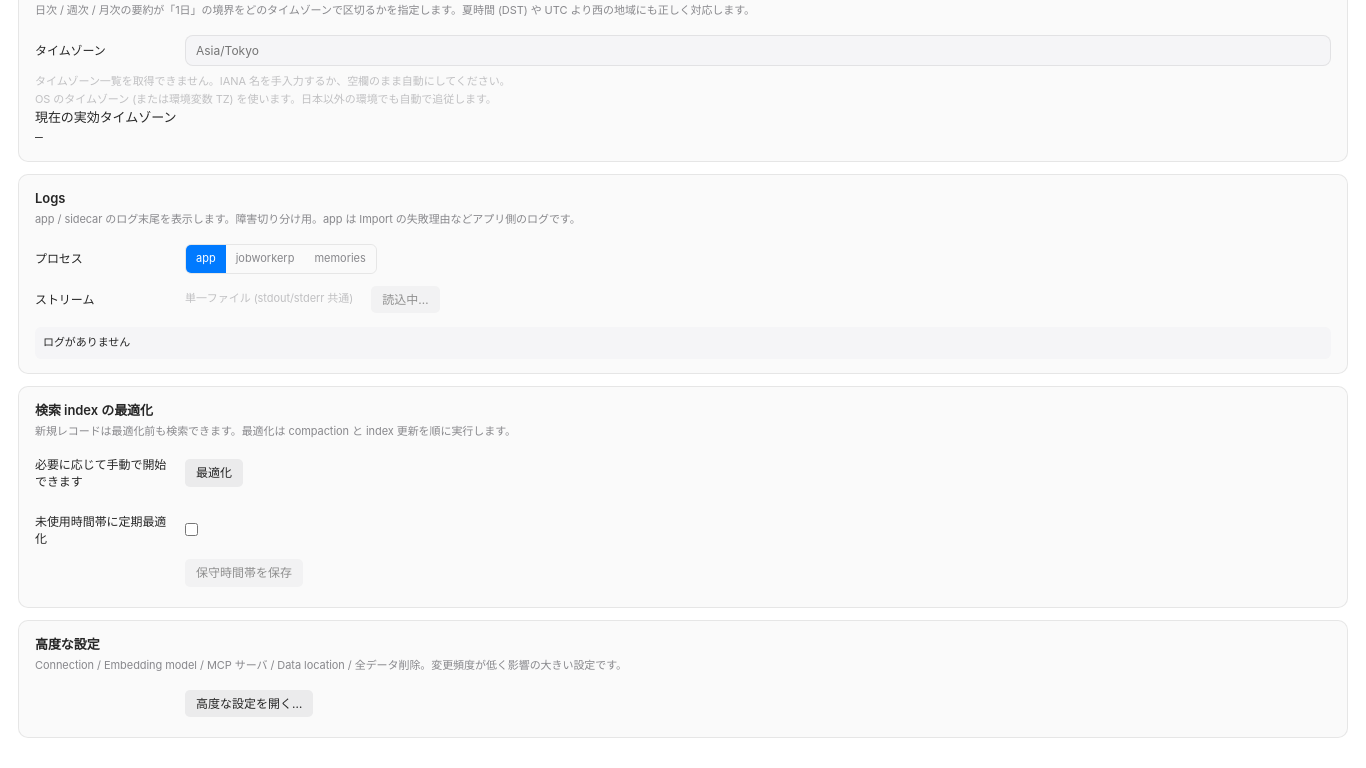
Settings view switching › switches to the advanced view and back
(page scrolled)
Step 1. Click the button "高度な設定を開く…" → (249, 703), box left=185, top=690, right=313, bottom=717
(page scrolled)
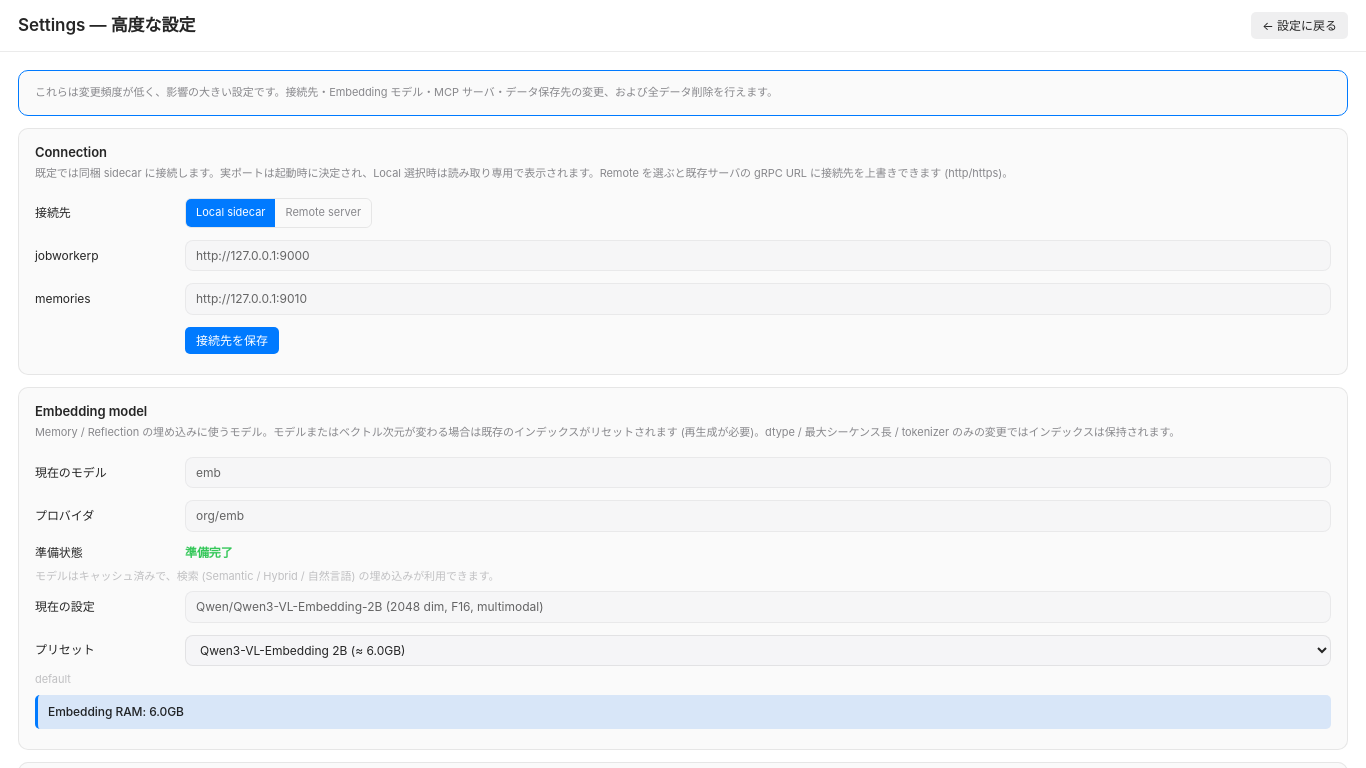
Check: the text "Connection" is shown, box left=35, top=144, right=107, bottom=160
Check: the text "Embedding model" is shown, box left=35, top=403, right=147, bottom=419
// Back button returns to basic.
Step 2. Click the button "← 設定に戻る" → (1300, 26), box left=1251, top=12, right=1348, bottom=39
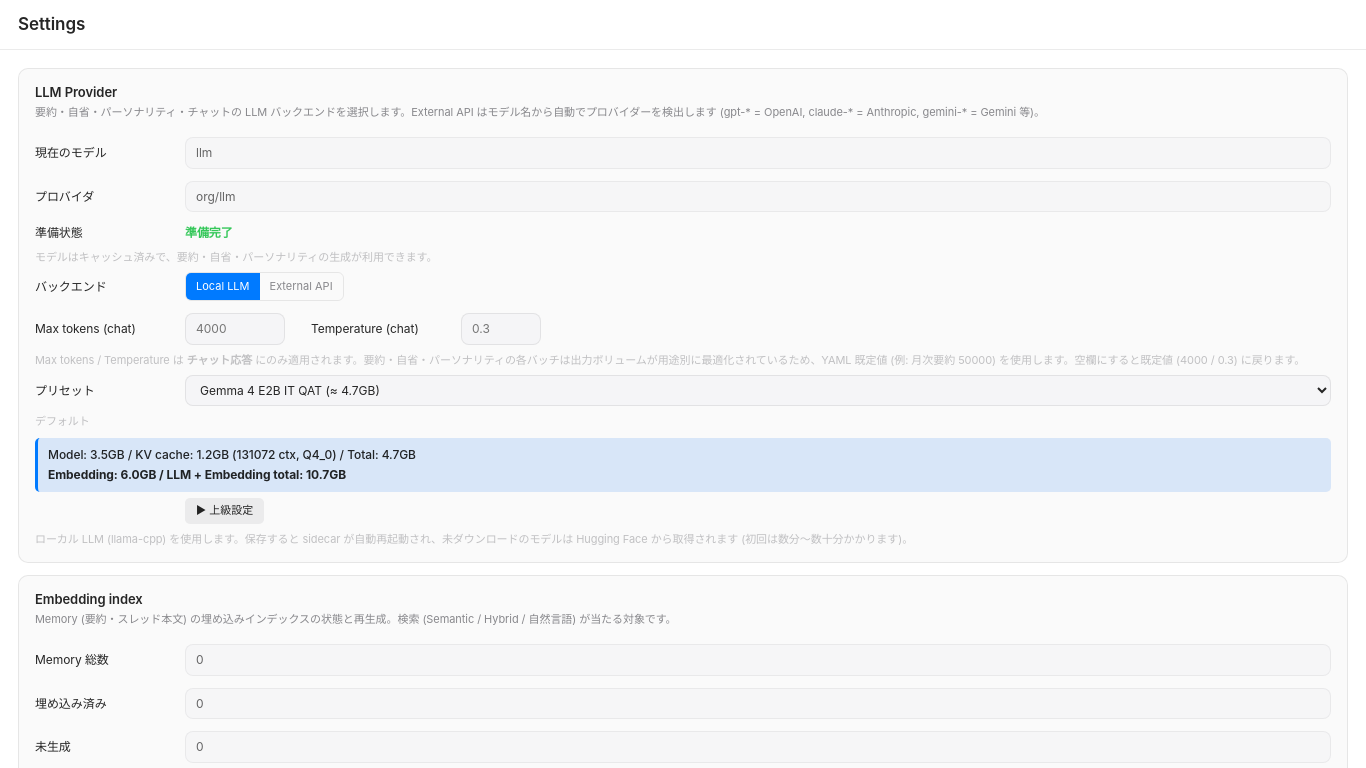
Check: the text "Connection" is not shown
Check: the text "LLM Provider" is shown, box left=35, top=84, right=117, bottom=100
